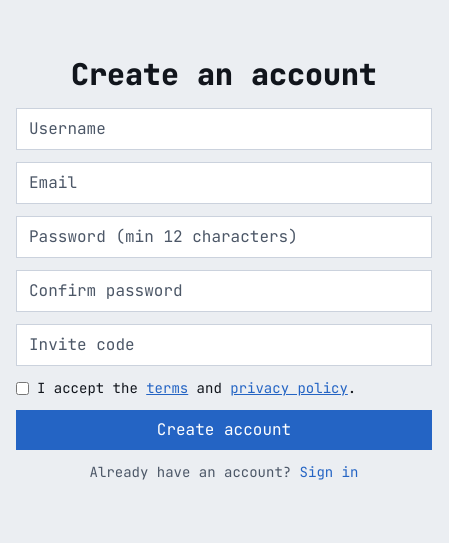
Test: RegisterPage › shows generic error on 400 response
Type "newuser" into the field with placeholder "Username" at (224, 129), box [16, 108, 432, 150]
Type "new@example.com" into the field with placeholder "Email" at (224, 183), box [16, 162, 432, 204]
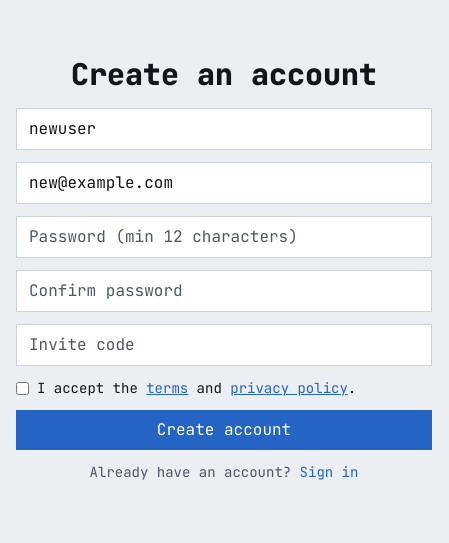
Type "longpassword12" into the password field with placeholder "Password (min 12 characters)" at (224, 237), box [16, 216, 432, 258]
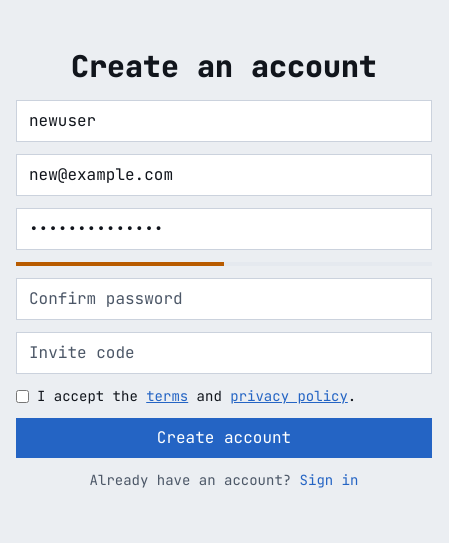
Type "longpassword12" into the password field with placeholder "Confirm password" at (224, 299), box [16, 278, 432, 320]
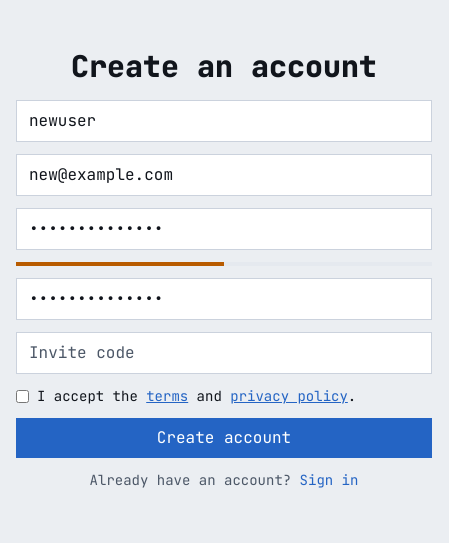
Type "abc123" into the field with placeholder "Invite code" at (224, 353), box [16, 332, 432, 374]
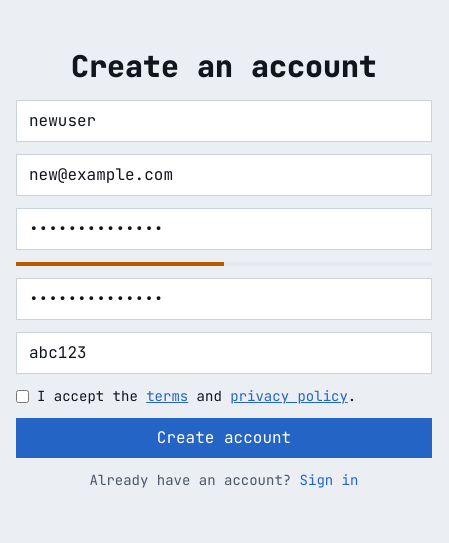
Click the checkbox at (22, 396), box [16, 390, 29, 403]
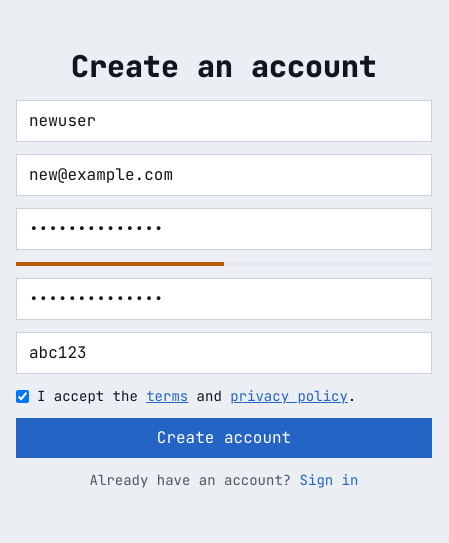
Click the button "Create account" at (224, 438), box [16, 418, 432, 458]
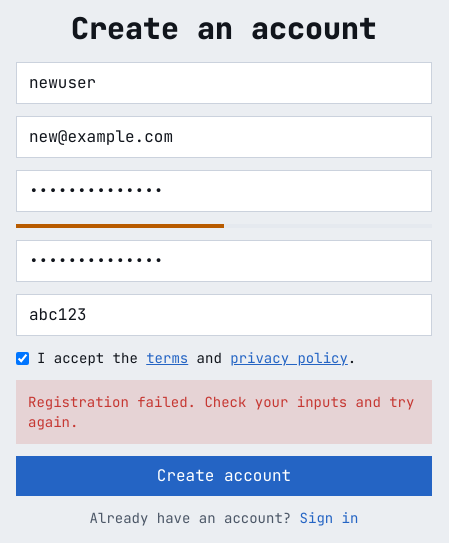
Expected: the text "Registration failed. Check your inputs and try again." is shown, [16, 380, 432, 444]
